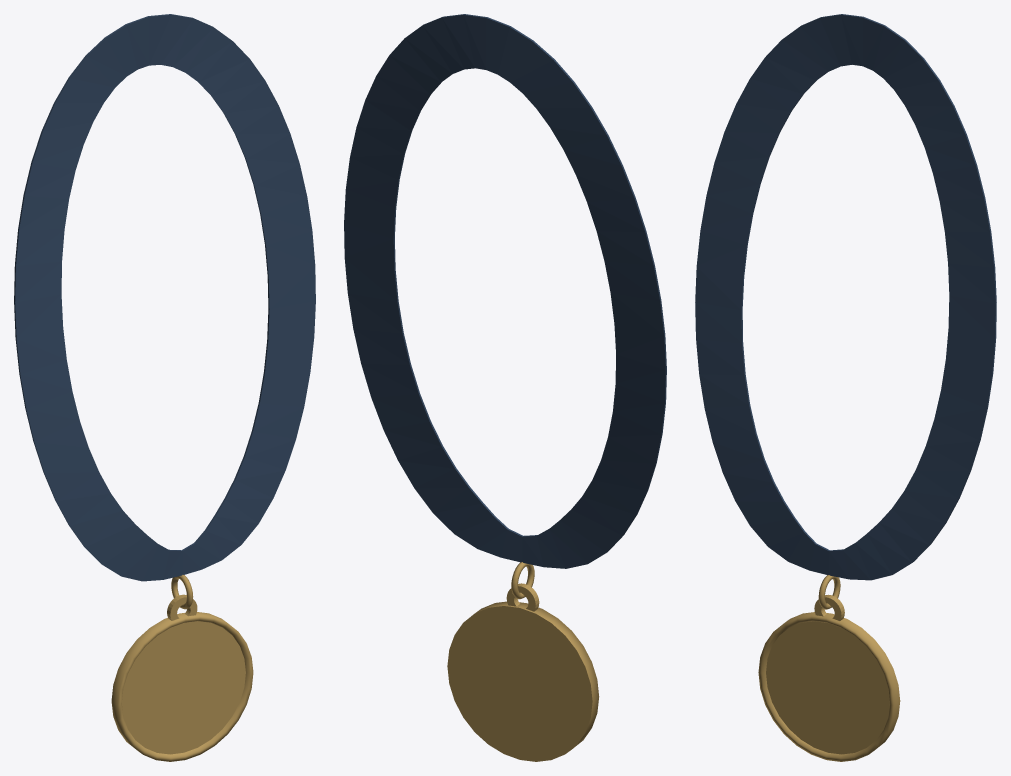
File: A-NEW-20261027-MEDAL-001_LOD2_R2.fbx
3 renders of one model, left to right at view 1: azimuth 30°, elevation 25°; view 2: azimuth 150°, elevation 25°; view 3: azimuth 330°, elevation 25°, orthographic. The views are drawn at different scales.
Visible parts, largest first — view 1: complete broad neck ribbon loop, plain rimmed medal disc; view 2: complete broad neck ribbon loop, plain rimmed medal disc; view 3: complete broad neck ribbon loop, plain rimmed medal disc.
Part boxes in pixels (<box>): complete broad neck ribbon loop: <box>14,14,315,581</box>; plain rimmed medal disc: <box>111,612,253,761</box>; complete broad neck ribbon loop: <box>344,14,666,568</box>; plain rimmed medal disc: <box>447,601,599,761</box>; complete broad neck ribbon loop: <box>695,14,996,580</box>; plain rimmed medal disc: <box>758,612,900,761</box>.
Size of the model in its own units: 15.4 by 35.3 by 3.92.
